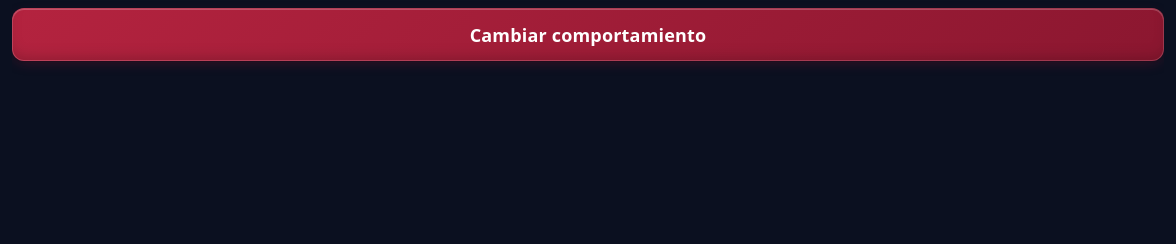
Test case: BehaviorSelector › Debería informar el error del back y conservar el comportamiento anterior ante 400 INVALID_DATA
The width and height of the screenshot is (1176, 244).
Click the button "Cambiar comportamiento": (588, 35) [12, 8, 1164, 61]
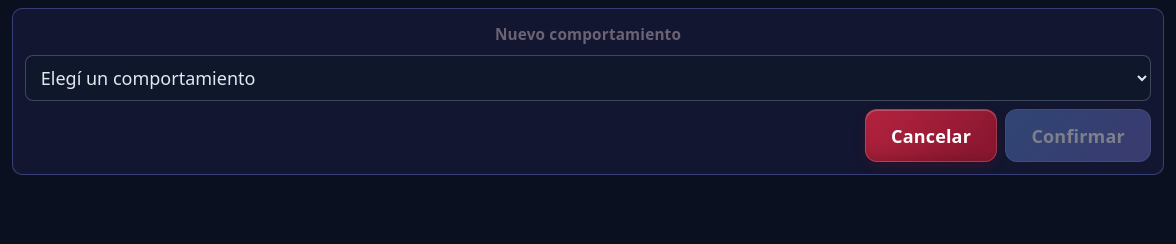
Select "Mi delantero" in the dropdown: (588, 78) [25, 55, 1151, 101]
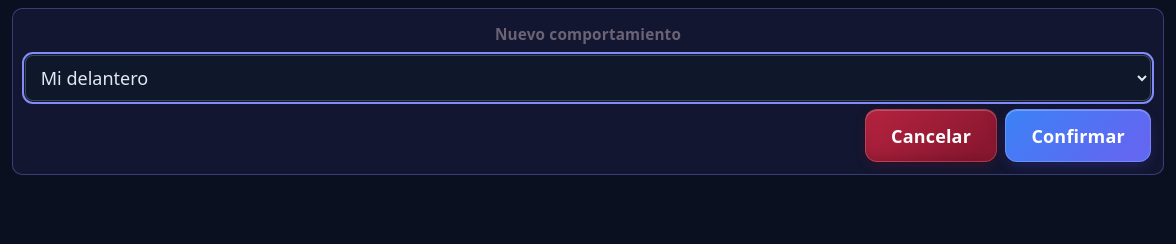
Click the button "Confirmar": (1078, 136) [1005, 109, 1151, 162]
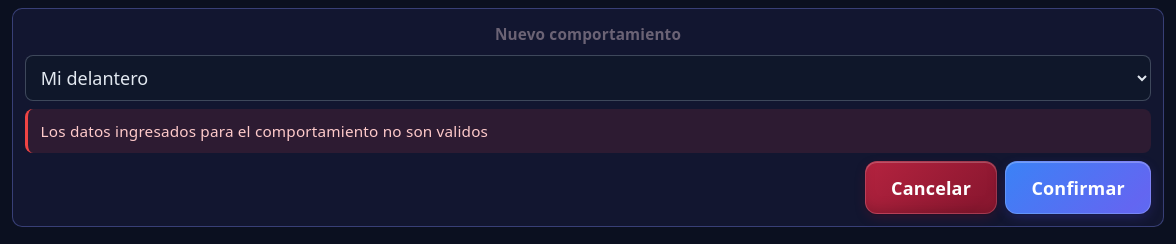
Check: the message reads "Los datos ingresados para el comportamiento no son validos", box [41, 121, 488, 141]
